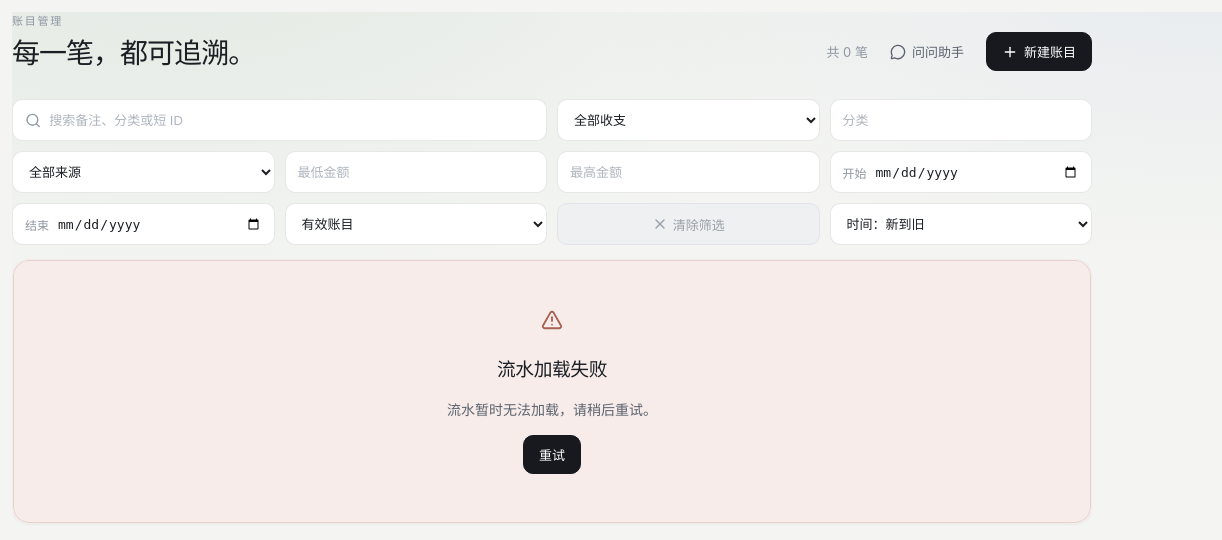
Test: EntriesPage state semantics › uses the shared error state and retries the list request
The image size is (1222, 540).
Expected: the heading "流水加载失败" is shown, x1=497 y1=358 x2=607 y2=381
What coordinates should you click on to do the following:
click the button "重试"
I would click on:
 (552, 455)
Its box is x1=523 y1=435 x2=581 y2=474.
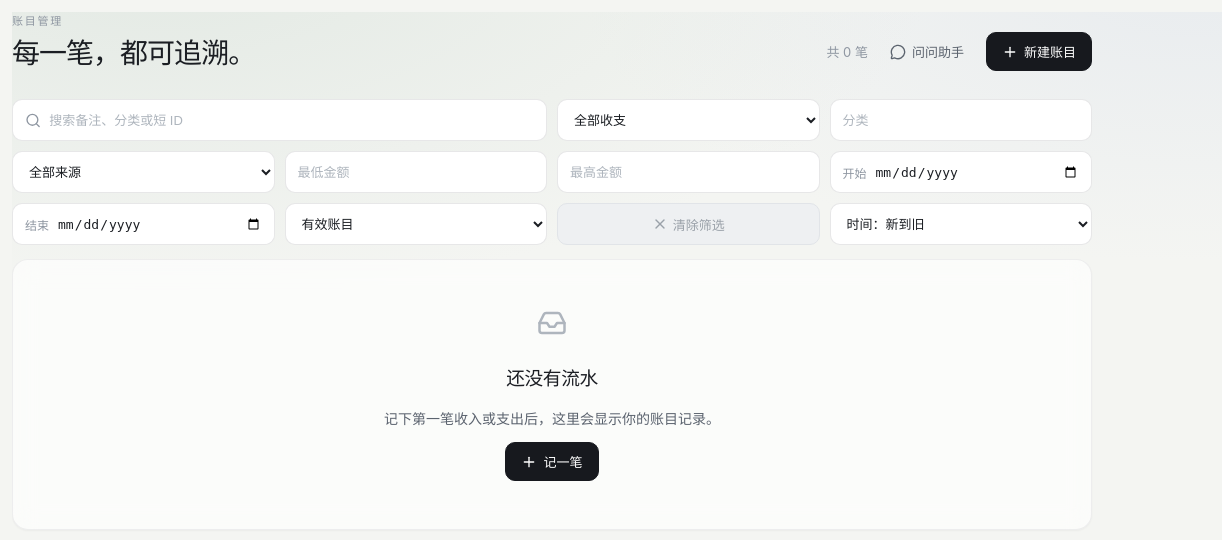
Now the heading "还没有流水" is shown, box x1=506 y1=367 x2=598 y2=390
